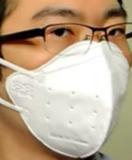with_mask: (1, 2, 132, 160)
